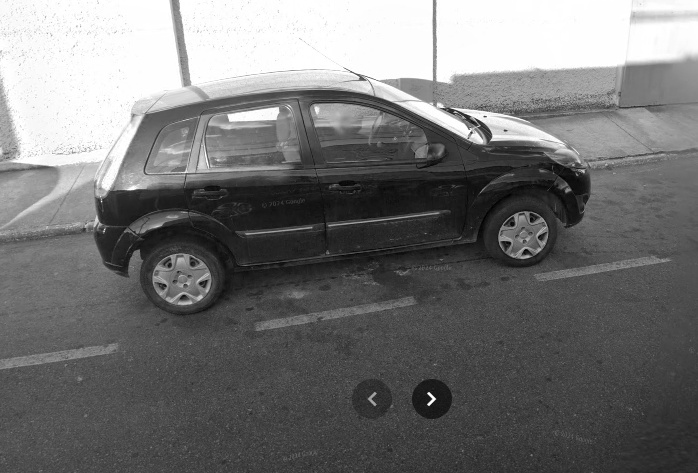car: (90, 34, 595, 320)
